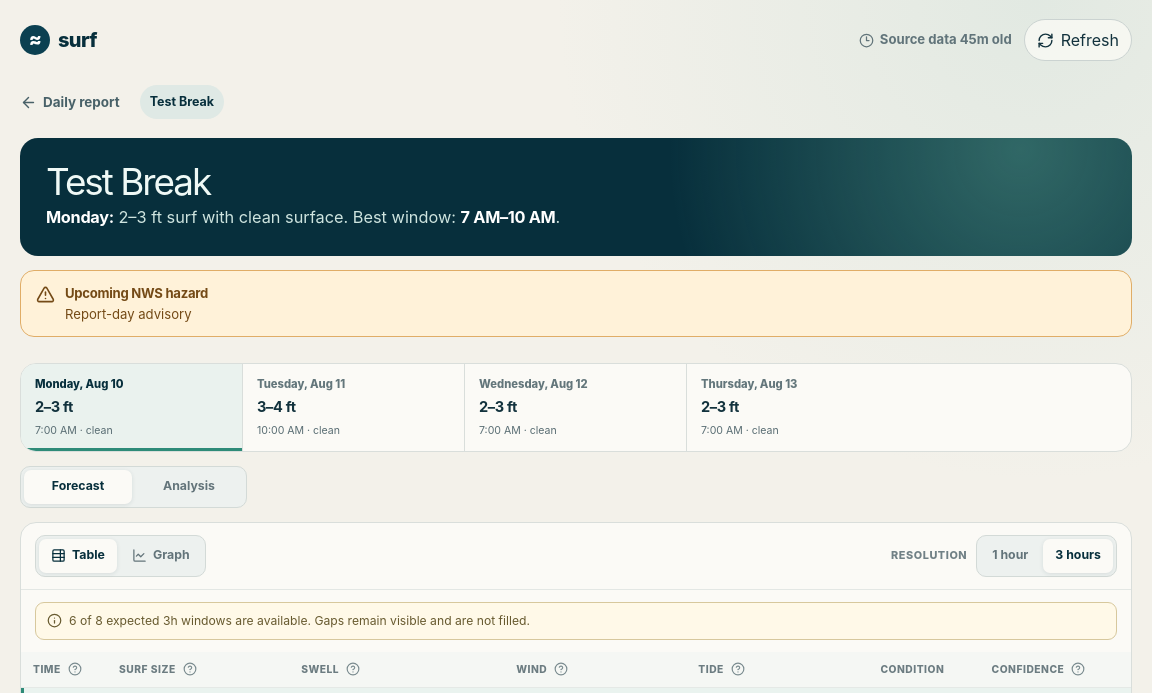
Test: App › keeps spot hazards scoped to the spot report date
The width and height of the screenshot is (1152, 693).
Expected: the text "Report-day advisory" is shown, left=65, top=305, right=208, bottom=323
Expected: the text "Upcoming NWS hazard" is shown, left=65, top=284, right=208, bottom=303
Click the button "Tuesday, Aug 11 3–4 ft 10:00 AM · clean" at (354,407), box left=243, top=364, right=465, bottom=450
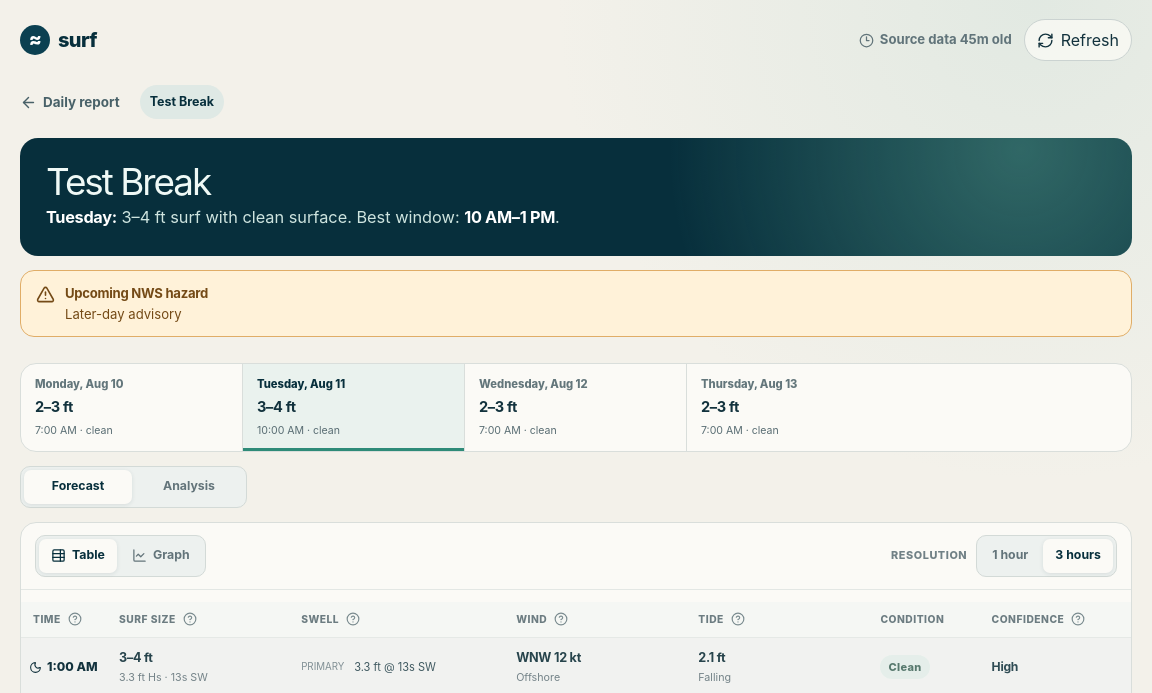
Expected: the text "Upcoming NWS hazard" is shown, left=65, top=284, right=208, bottom=303
Result: the text "Later-day advisory" is shown at left=65, top=306, right=182, bottom=322
Result: the text "Report-day advisory" is gone
